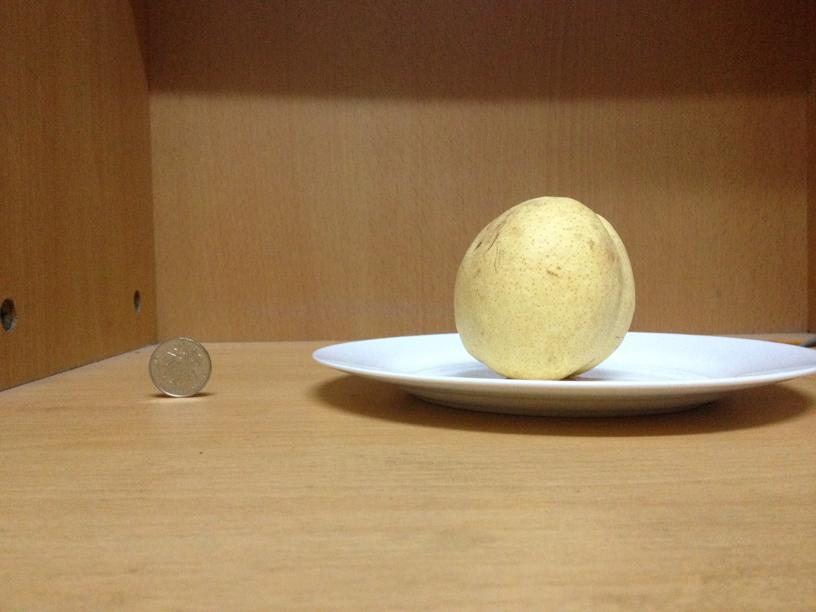coin: (147, 335, 214, 397)
pear: (451, 196, 635, 381)
